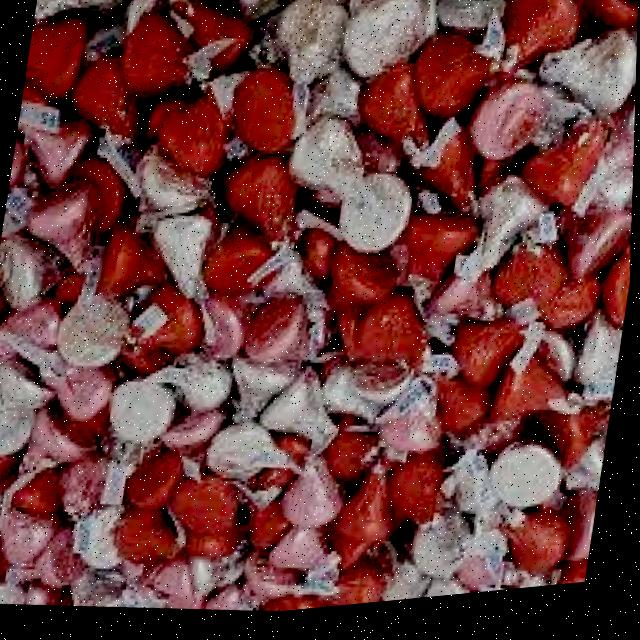kisses: (282, 118, 382, 226), (534, 34, 638, 137), (263, 0, 356, 111), (142, 200, 221, 307), (330, 170, 413, 271), (332, 0, 429, 86), (260, 370, 345, 466), (99, 370, 189, 456), (484, 441, 567, 526), (216, 354, 308, 429), (201, 415, 286, 496), (567, 322, 627, 419), (0, 360, 56, 463), (410, 518, 481, 596), (32, 0, 136, 35)
